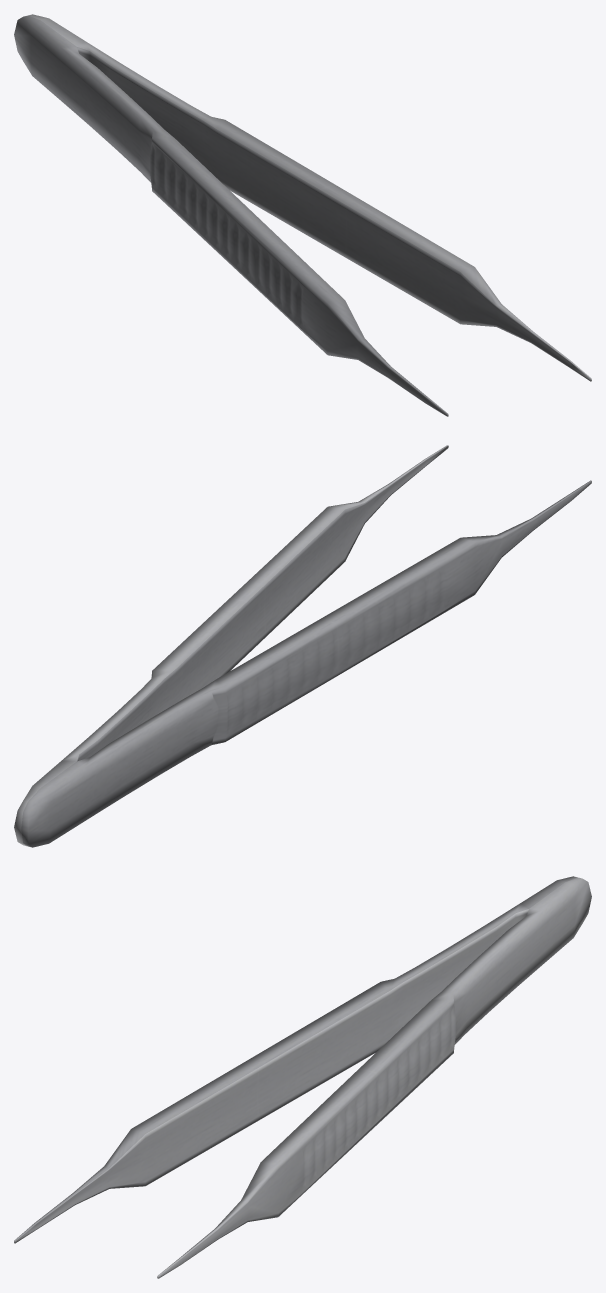
Rendered from Tweezer.fbx.
The picture shows the model from 3 angles, top to bottom: view 1: azimuth 30°, elevation 25°; view 2: azimuth 150°, elevation 25°; view 3: azimuth 330°, elevation 25°; orthographic projection.
Parts seen in each view (by area): view 1: Tweezer; view 2: Tweezer; view 3: Tweezer.
Part boxes in pixels (left/top/right/bottom): Tweezer: left=14, top=14, right=591, bottom=416; Tweezer: left=14, top=445, right=591, bottom=847; Tweezer: left=14, top=876, right=591, bottom=1278.
Bounding box in the file's own units: 0.2767 × 0.0959 × 1.62.
1 material, 1 textured.
